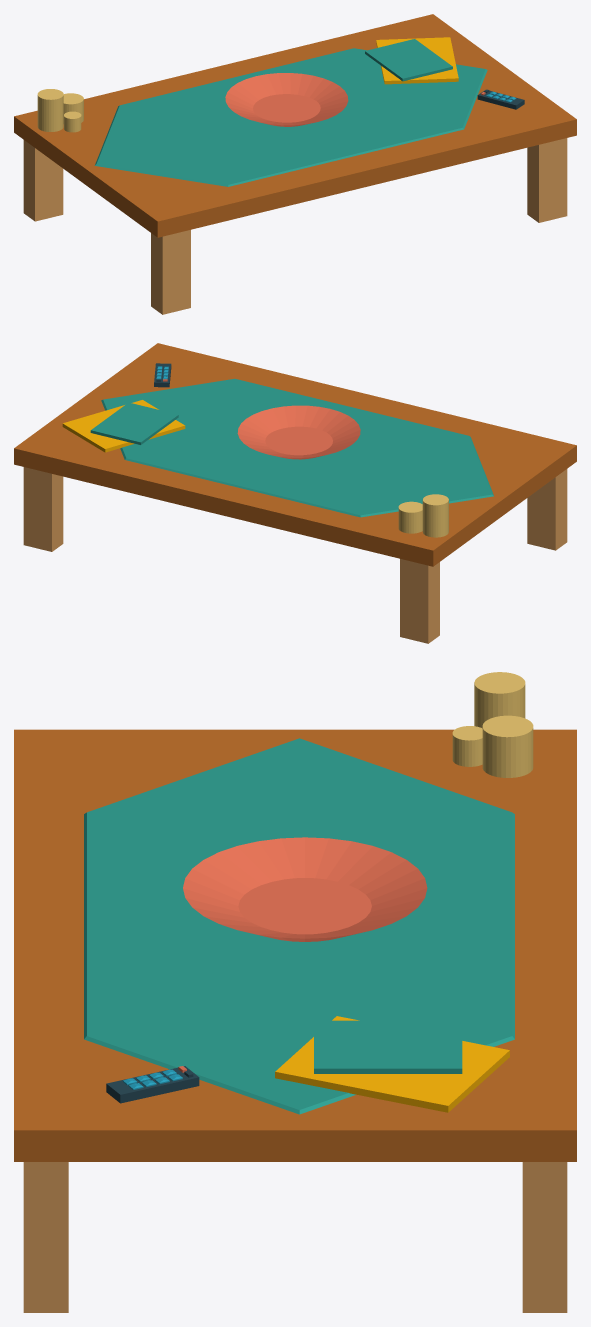
File: MESA-CAFE.glb
The picture shows the model from 3 angles, top to bottom: view 1: azimuth 30°, elevation 25°; view 2: azimuth 150°, elevation 25°; view 3: azimuth 270°, elevation 25°; orthographic projection. The views are drawn at different scales.
Parts seen in each view (by area): view 1: MESA-CAFE; view 2: MESA-CAFE; view 3: MESA-CAFE.
Boxes of the visible parts, box(x1,y1,x2,y2) form: MESA-CAFE: box(14, 14, 576, 314); MESA-CAFE: box(14, 343, 576, 643); MESA-CAFE: box(14, 672, 576, 1312).
Bounding box in the file's own units: 4.33 × 1.28 × 2.58.
1 material, 1 textured.
